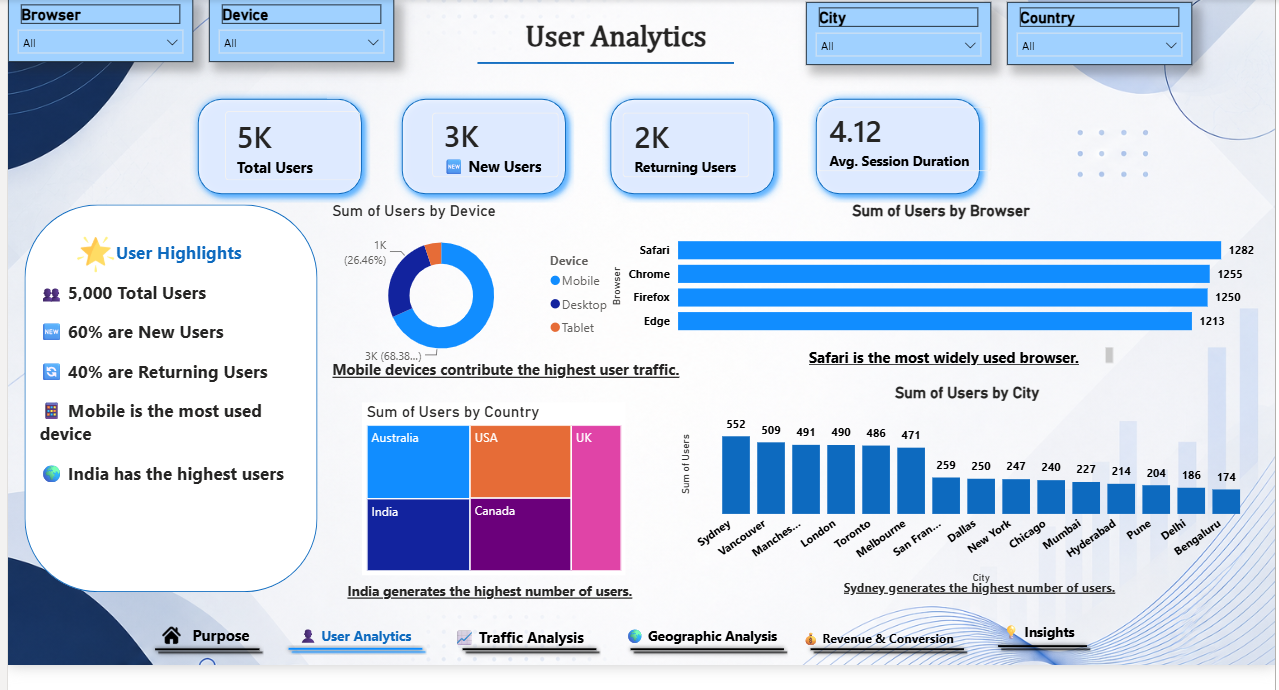

Layout of this report page (visuals, bound fields, positions):
{"tool":"powerbi","page":{"name":"User Analytics","canvas":[1370,720],"ordinal":1},"visuals":[{"type":"shape","box":[18,222.5,316.5,418.7],"z":0},{"type":"shape","box":[416.4,98.4,195.3,121.1],"z":1000},{"type":"cardVisual","fields":{"Data":["Digital_Marketing_Data.New Users"]},"box":[440.6,106,171.1,104.5],"z":2000},{"type":"shape","box":[195.3,98.4,195.3,121.1],"z":3000},{"type":"textbox","box":[475.4,18,320.6,49.8],"z":4000},{"type":"shape","box":[507.3,3,277.1,131.7],"z":5000},{"type":"actionButton","box":[133.3,661.7,131.7,51.5],"z":6000},{"type":"actionButton","box":[292.2,667.8,166.6,39.4],"z":7000},{"type":"actionButton","box":[475.5,669.3,154.4,39.4],"z":8000},{"type":"actionButton","box":[849.5,670.8,181.7,39.4],"z":9000},{"type":"actionButton","box":[661.7,667.8,175.6,39.4],"z":10000},{"type":"actionButton","box":[1063,663.2,99.9,39.4],"z":11000},{"type":"shape","box":[154.4,692,122.7,21.2],"z":12000},{"type":"image","box":[154.4,676.8,45.4,19.7],"z":13000},{"type":"shape","box":[298.3,695,154.4,13.6],"z":14000},{"type":"shape","box":[486.1,690.5,154.4,24.2],"z":15000},{"type":"shape","box":[667.8,690.5,175.6,24.2],"z":16000},{"type":"shape","box":[861.6,690.5,175.6,24.2],"z":17000},{"type":"shape","box":[1064.5,685.9,106,27.3],"z":18000},{"type":"slicer","fields":{"Values":["Digital_Marketing_Data.City"]},"box":[861.6,3,199.9,68.1],"z":19000},{"type":"slicer","fields":{"Values":["Digital_Marketing_Data.Country"]},"box":[1079.6,3,199.9,68.1],"z":20000},{"type":"slicer","fields":{"Values":["Digital_Marketing_Data.Browser"]},"box":[0,0,199.9,68.1],"z":21000},{"type":"slicer","fields":{"Values":["Digital_Marketing_Data.Device"]},"box":[216.5,0,199.9,68.1],"z":22000},{"type":"cardVisual","fields":{"Data":["Sum(Digital_Marketing_Data.Users)"]},"box":[216.5,104.5,180.2,109],"z":23000},{"type":"shape","box":[863.1,98.4,195.3,121.1],"z":24000},{"type":"shape","box":[642,98.4,195.3,121.1],"z":25000},{"type":"cardVisual","fields":{"Data":["Digital_Marketing_Data.Returning Users"]},"box":[646.6,106,171.1,104.5],"z":26000},{"type":"cardVisual","fields":{"Data":["Digital_Marketing_Data.Avg Session Duration"]},"box":[857,98.4,222.6,104.5],"z":27000},{"type":"donutChart","fields":{"Category":["Digital_Marketing_Data.Device"],"Y":["Sum(Digital_Marketing_Data.Users)"]},"box":[345.2,218.8,316,183.1],"z":28000},{"type":"barChart","fields":{"Category":["Digital_Marketing_Data.Browser"],"Y":["Sum(Digital_Marketing_Data.Users)"]},"box":[646.8,218.4,722.8,154.8],"z":29000},{"type":"clusteredColumnChart","fields":{"Category":["Digital_Marketing_Data.City"],"Y":["Sum(Digital_Marketing_Data.Users)"]},"box":[721.4,414.6,630.2,221.1],"z":30000},{"type":"treemap","fields":{"Group":["Digital_Marketing_Data.Country"],"Values":["Sum(Digital_Marketing_Data.Users)"]},"box":[382.8,435.3,284.7,186.6],"z":31000},{"type":"textbox","box":[345.5,384.2,410.4,59.4],"z":32000},{"type":"textbox","box":[861,370.4,338.6,29],"z":33000},{"type":"textbox","box":[360.7,624.7,330.3,47],"z":34000},{"type":"textbox","box":[898.3,620.5,330.3,42.8],"z":35000},{"type":"textbox","box":[29,255.7,305.4,366.2],"z":36000},{"type":"image","box":[56.7,255.7,76,40.1],"z":37000}]}

Visuals, with their boxes in screenshot pixels (x1, y1, x2, y2), scaled from the page's 1370x720 canvas onto the 1279x690 screenshot:
shape: (17, 213, 312, 614)
shape: (389, 94, 571, 210)
cardVisual - Digital_Marketing_Data.New Users: (411, 102, 571, 202)
shape: (182, 94, 365, 210)
textbox: (444, 17, 743, 65)
shape: (474, 3, 732, 129)
actionButton: (124, 634, 247, 683)
actionButton: (273, 640, 428, 678)
actionButton: (444, 641, 588, 679)
actionButton: (793, 643, 963, 681)
actionButton: (618, 640, 782, 678)
actionButton: (992, 636, 1086, 673)
shape: (144, 663, 259, 683)
image: (144, 649, 187, 667)
shape: (278, 666, 423, 679)
shape: (454, 662, 598, 685)
shape: (623, 662, 787, 685)
shape: (804, 662, 968, 685)
shape: (994, 657, 1093, 683)
slicer - Digital_Marketing_Data.City: (804, 3, 991, 68)
slicer - Digital_Marketing_Data.Country: (1008, 3, 1195, 68)
slicer - Digital_Marketing_Data.Browser: (0, 0, 187, 65)
slicer - Digital_Marketing_Data.Device: (202, 0, 389, 65)
cardVisual - Sum(Digital_Marketing_Data.Users): (202, 100, 370, 205)
shape: (806, 94, 988, 210)
shape: (599, 94, 782, 210)
cardVisual - Digital_Marketing_Data.Returning Users: (604, 102, 763, 202)
cardVisual - Digital_Marketing_Data.Avg Session Duration: (800, 94, 1008, 194)
donutChart - Digital_Marketing_Data.Device x Sum(Digital_Marketing_Data.Users): (322, 210, 617, 385)
barChart - Digital_Marketing_Data.Browser x Sum(Digital_Marketing_Data.Users): (604, 209, 1278, 358)
clusteredColumnChart - Digital_Marketing_Data.City x Sum(Digital_Marketing_Data.Users): (673, 397, 1262, 609)
treemap - Digital_Marketing_Data.Country x Sum(Digital_Marketing_Data.Users): (357, 417, 623, 596)
textbox: (323, 368, 706, 425)
textbox: (804, 355, 1120, 383)
textbox: (337, 599, 645, 644)
textbox: (839, 595, 1147, 636)
textbox: (27, 245, 312, 596)
image: (53, 245, 124, 283)
